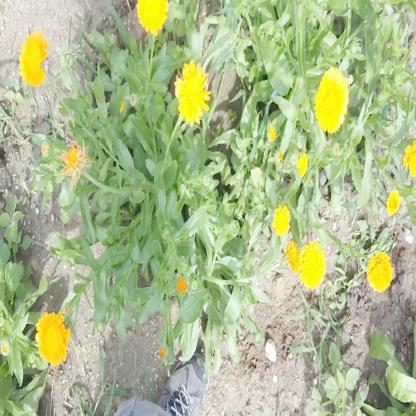marigold: (174, 60, 207, 123), (317, 71, 348, 131), (36, 313, 68, 363), (20, 30, 48, 86), (298, 244, 324, 290), (136, 0, 168, 35), (368, 250, 392, 294), (272, 205, 293, 236), (387, 191, 401, 214)
